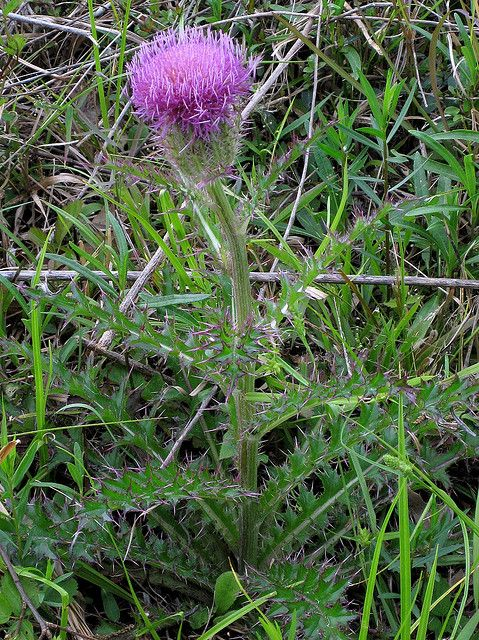bull thistle: (124, 23, 263, 190)
